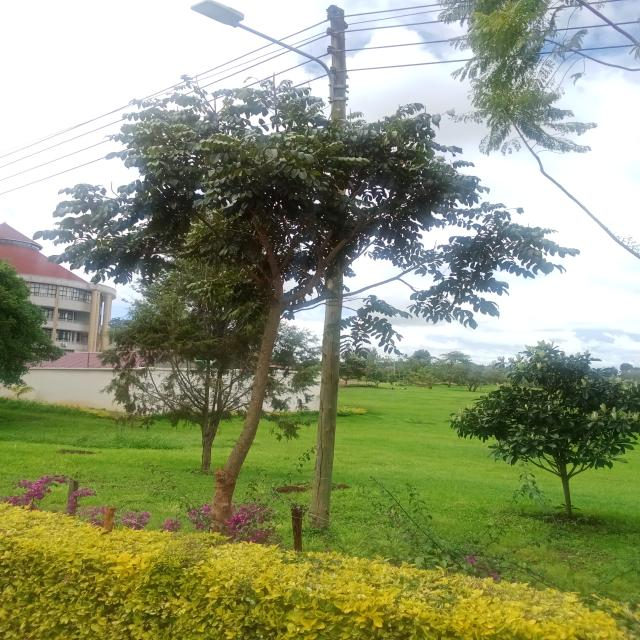Polyscias Kikuyensis: (60, 34, 476, 538)
Prunus Africana: (442, 349, 640, 522)
